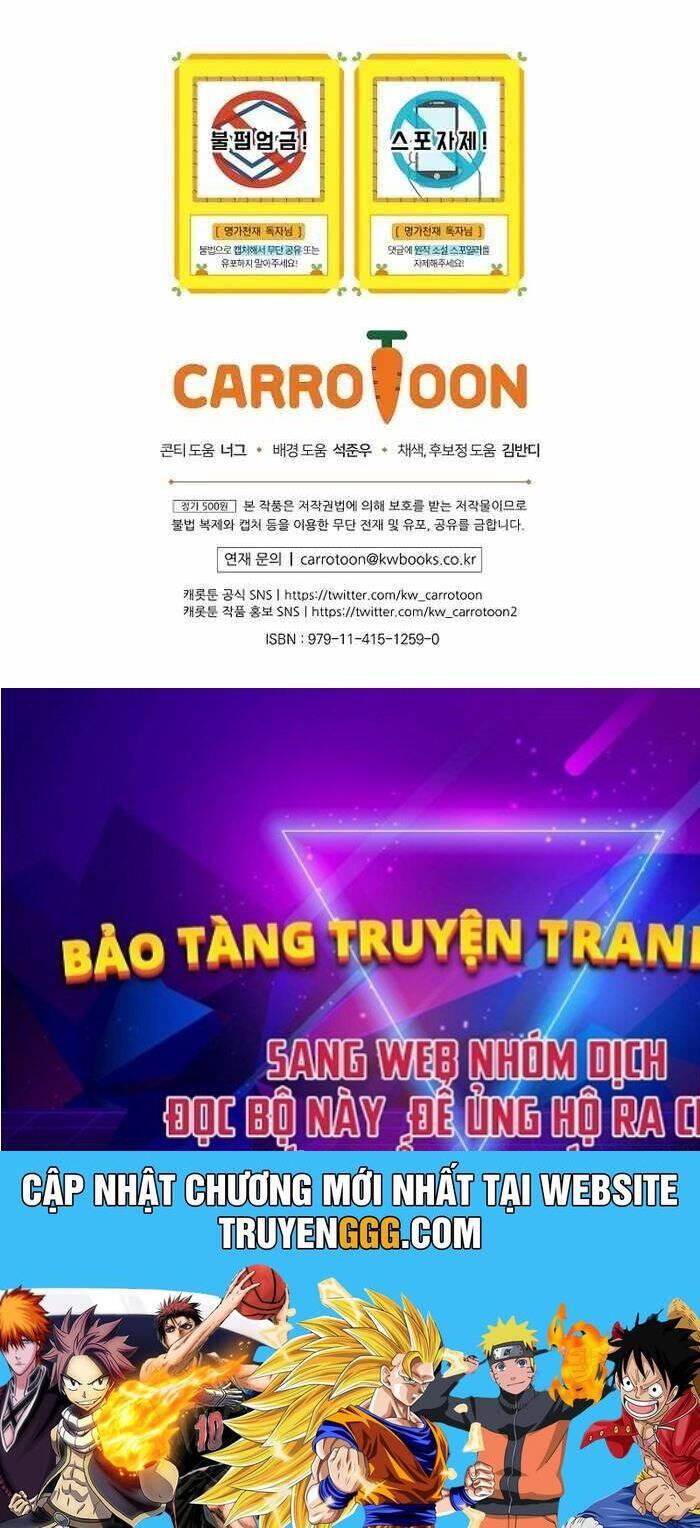quangcao: (2, 686, 700, 1528)
